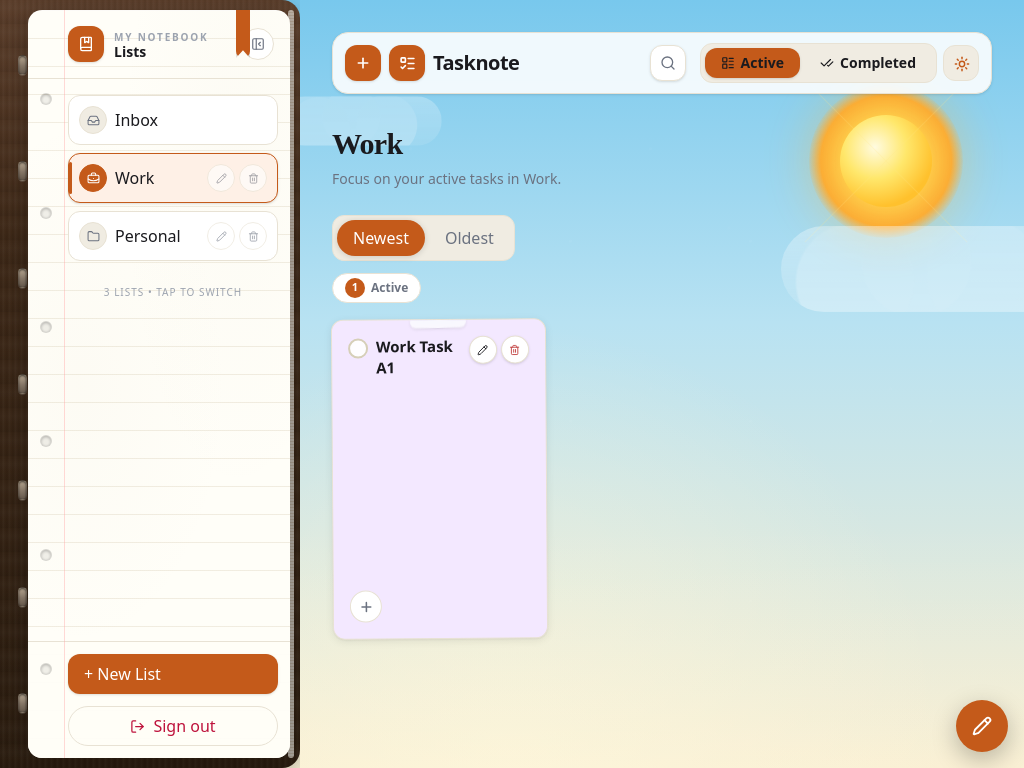
Test case: Instant navigation and query responsiveness › displays cached results immediately on returning to a previously loaded query
Check: the heading "Work Task A1" is shown, box [376,336,461,377]
Note: Switch to List B
What coordinates should you click on to do the following:
click the button "Personal"
I would click on:
 (157, 236)
Its box is [115,224,199,248].
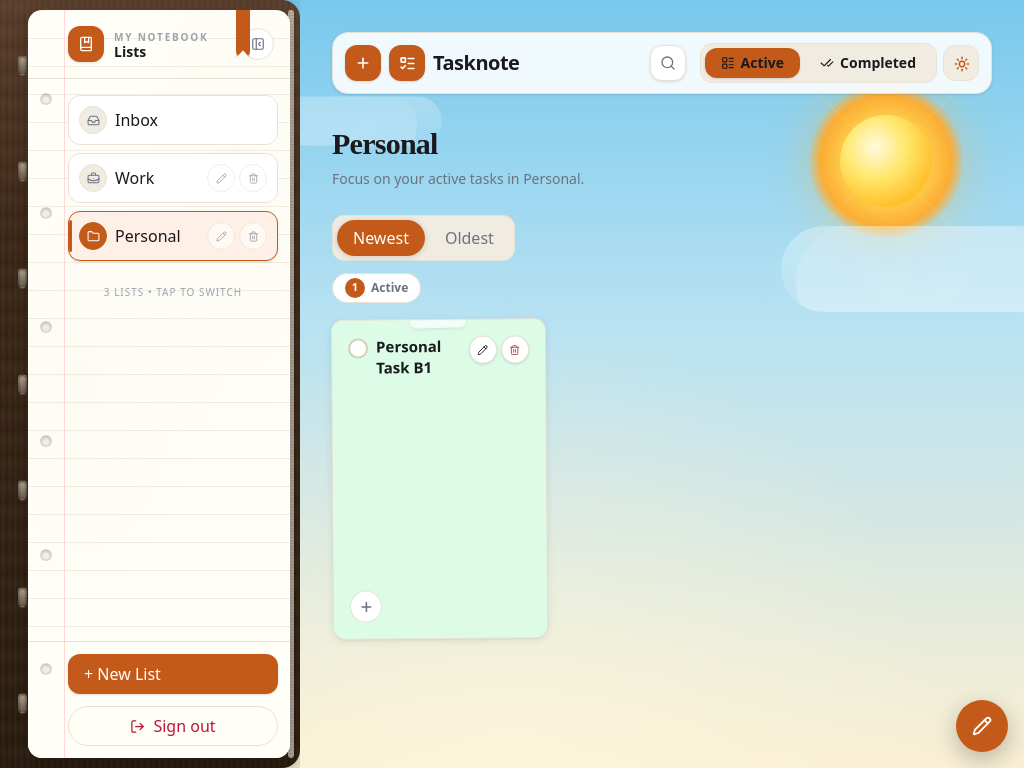
Check: the heading "Personal Task B1" is shown, box [376,336,442,377]
Note: Switch back to List A
What coordinates should you click on to do the following:
click the button "Work"
I would click on:
 (157, 178)
Its box is [115,166,199,190].
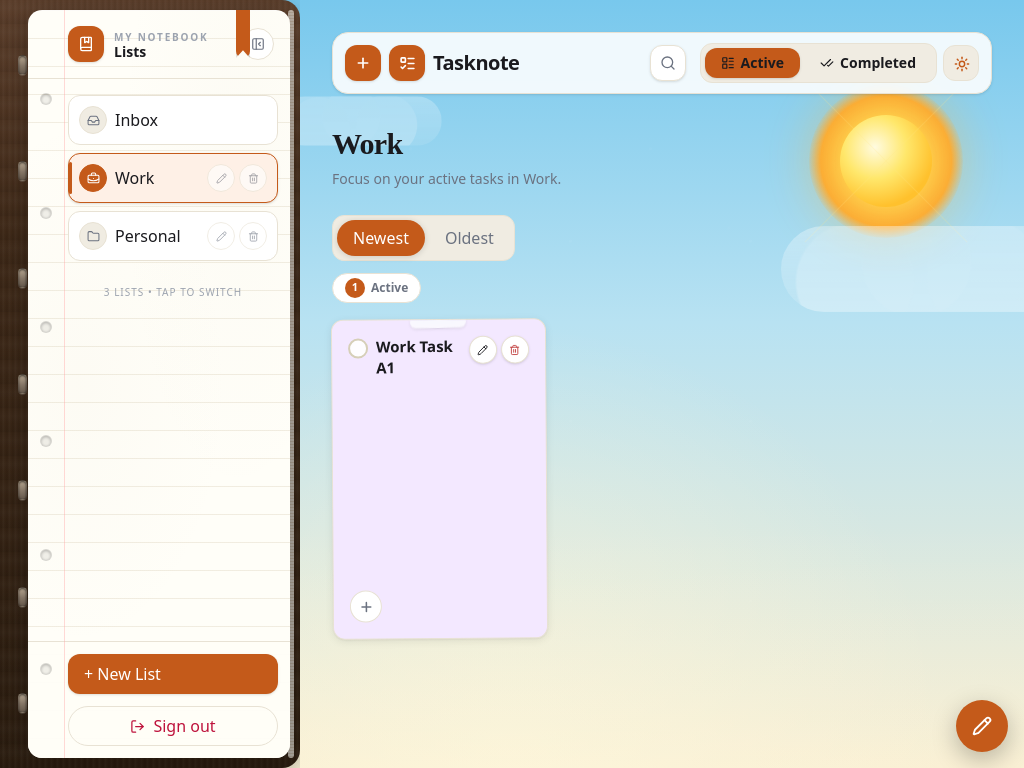
Check: the heading "Personal Task B1" is gone
Check: the heading "Work Task A1" is shown, box [376,336,461,377]
